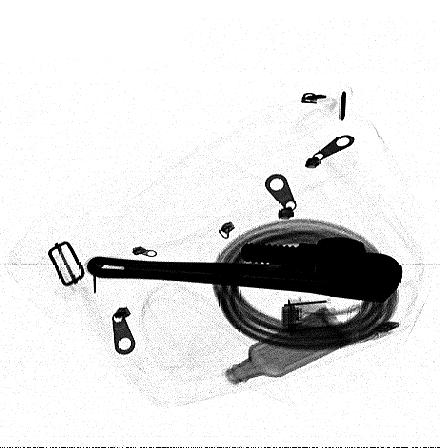Wrench: (88, 237, 403, 302)
